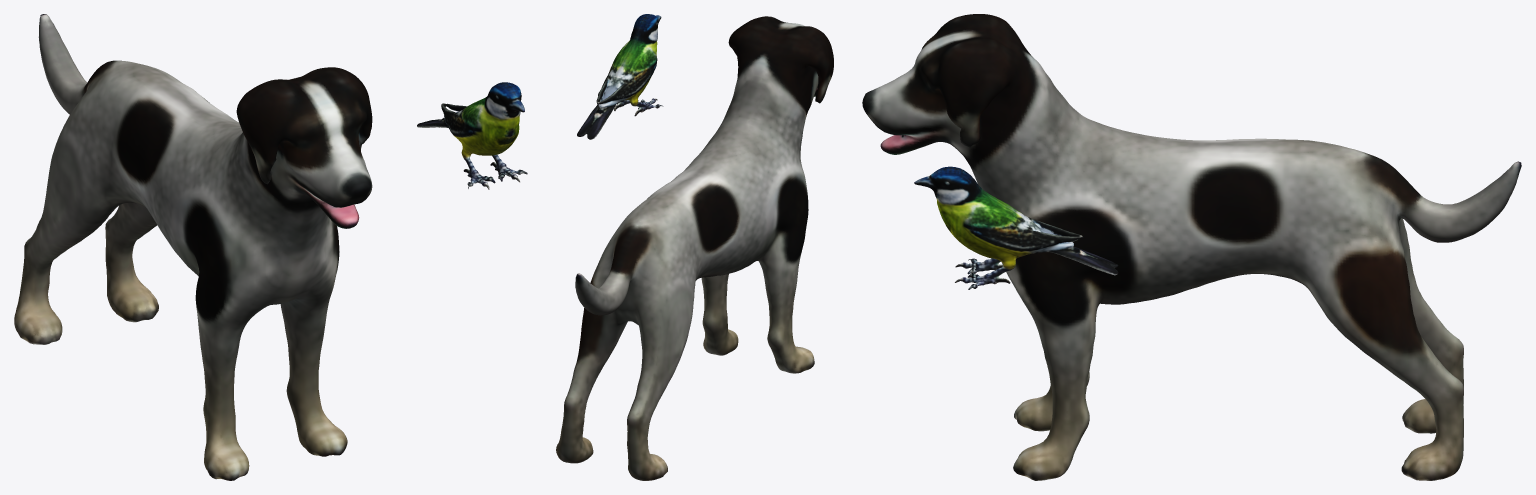
The model's file is Characters-dog-bird.glb.
3 views of the same model, side by side, from view 1: azimuth 30°, elevation 25°; view 2: azimuth 150°, elevation 25°; view 3: azimuth 270°, elevation 25° (orthographic). The views are drawn at different scales.
Parts seen in each view (by area): view 1: Mesh_0.004, Mesh_0.001; view 2: Mesh_0.004, Mesh_0.001; view 3: Mesh_0.004, Mesh_0.001.
Boxes of the visible parts, x1,y1,x2,y2 form: Mesh_0.004: (14, 14, 372, 480); Mesh_0.001: (417, 82, 527, 189); Mesh_0.004: (556, 16, 833, 480); Mesh_0.001: (577, 14, 663, 139); Mesh_0.004: (862, 14, 1521, 480); Mesh_0.001: (914, 166, 1118, 289).
Size of the model in its own units: 2.49 by 3.41 by 4.82.
2 materials, 2 textured.
